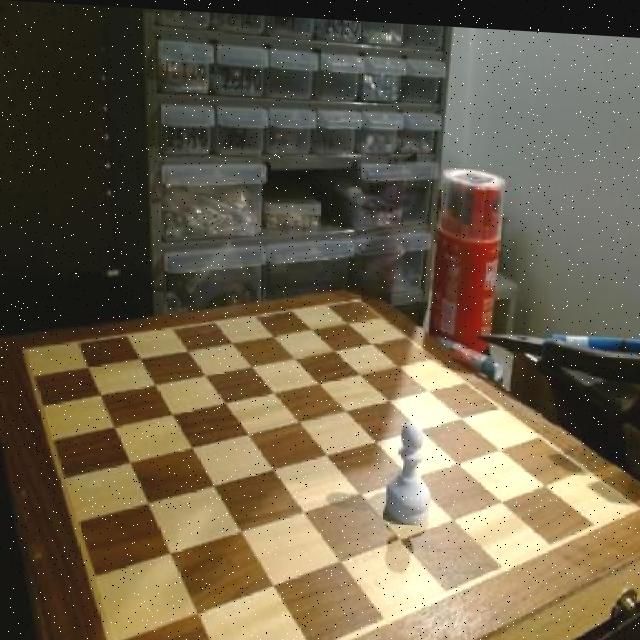white-knight: (388, 410, 434, 524)
